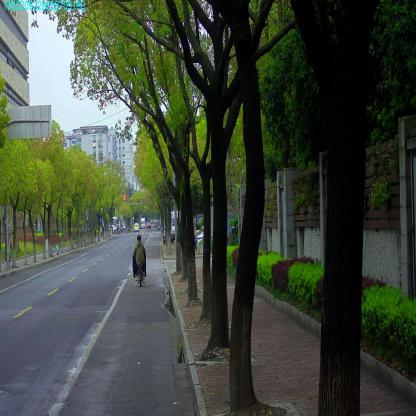traffic-light: (123, 194, 126, 203)
